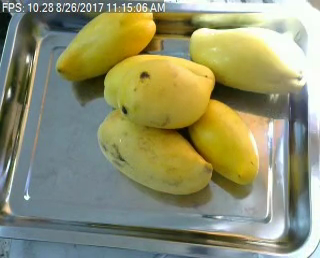Mango: (98, 108, 211, 193), (189, 25, 309, 94), (56, 4, 158, 80), (117, 57, 211, 128), (189, 97, 259, 185), (107, 54, 216, 110)
